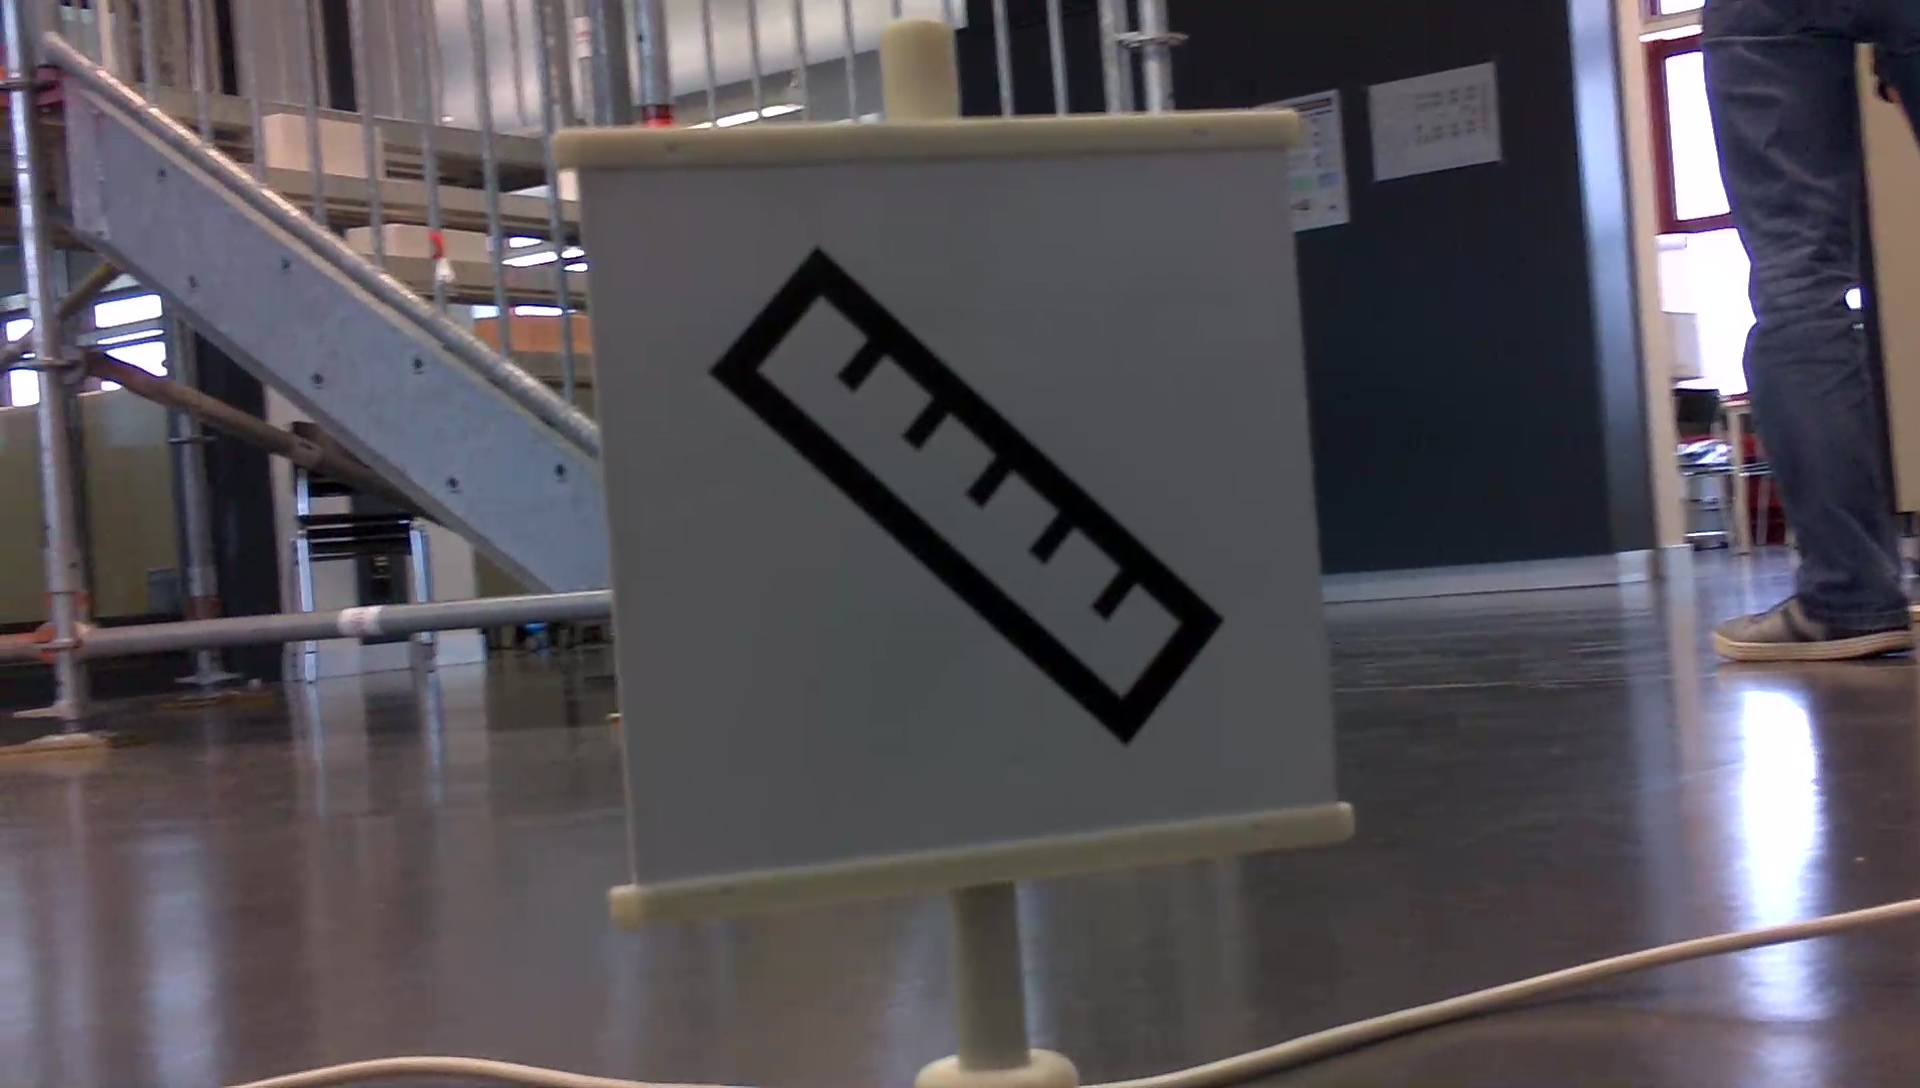ruler: (705, 233, 1226, 750)
